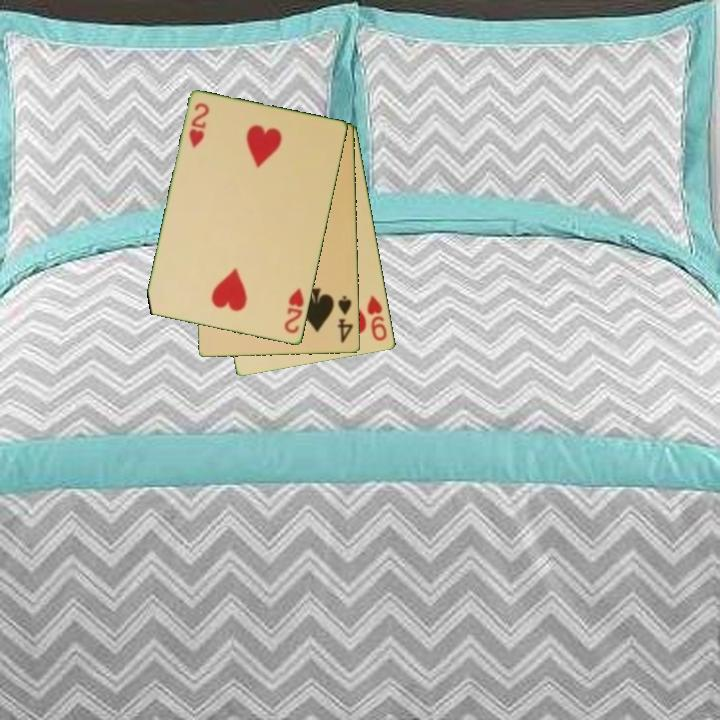2h: (281, 285, 307, 337), (186, 99, 212, 151)
4s: (334, 292, 356, 346)
9h: (364, 292, 390, 344)
